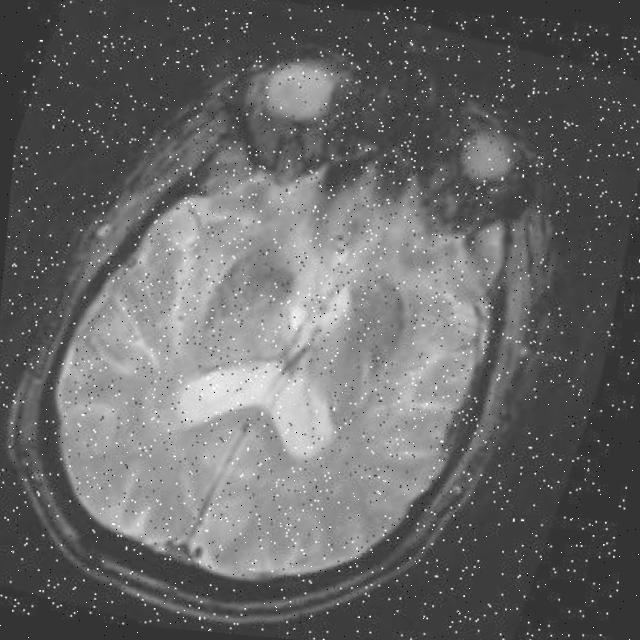MCI: (191, 233, 326, 344), (356, 266, 422, 381)
